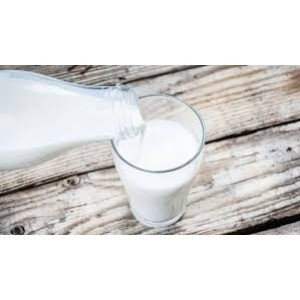milk_brain food: (123, 97, 206, 220)
